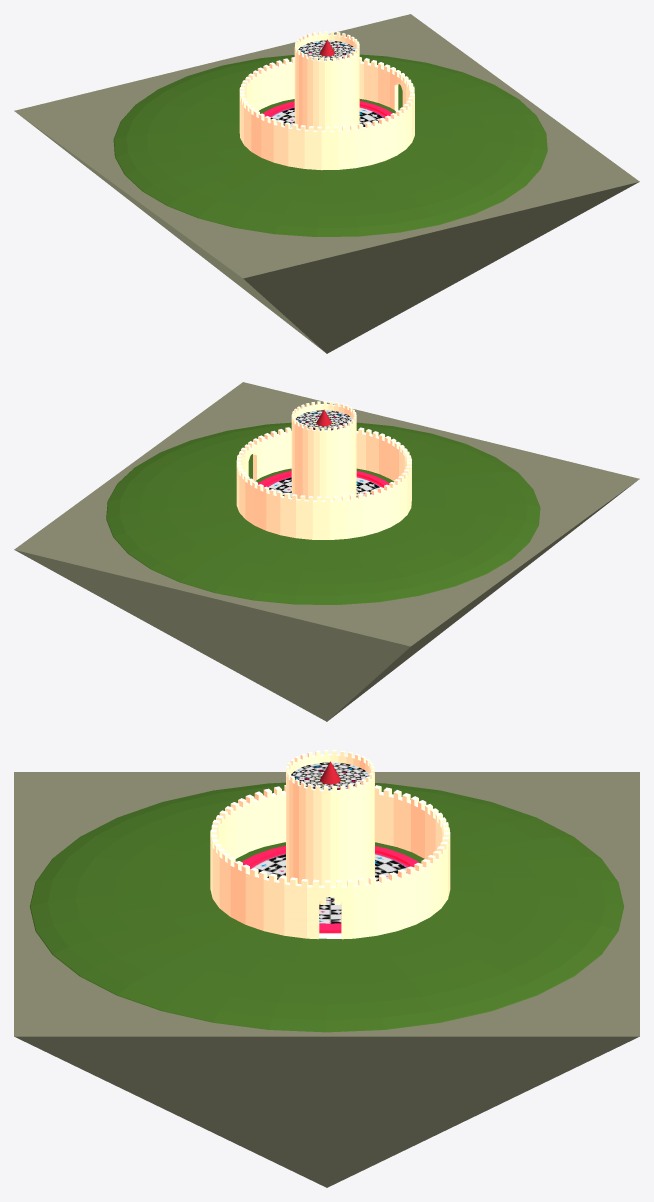
The model's file is castle1.glb.
The picture shows the model from 3 angles, top to bottom: view 1: azimuth 30°, elevation 25°; view 2: azimuth 150°, elevation 25°; view 3: azimuth 270°, elevation 25°; orthographic projection. The views are drawn at different scales.
Visible parts, largest first — view 1: Plane, Sphere, Cylinder, Cylinder.001, Cylinder.002; view 2: Plane, Sphere, Cylinder, Cylinder.001, Cylinder.002; view 3: Plane, Sphere, Cylinder, Cylinder.002, Cylinder.001.
Boxes of the visible parts, <box> form: Plane: <box>14,14,639,353</box>; Sphere: <box>113,54,547,236</box>; Cylinder: <box>239,31,414,170</box>; Cylinder.001: <box>298,40,355,60</box>; Cylinder.002: <box>270,107,384,127</box>; Plane: <box>14,382,639,721</box>; Sphere: <box>106,422,540,604</box>; Cylinder: <box>236,401,411,539</box>; Cylinder.001: <box>296,410,352,430</box>; Cylinder.002: <box>268,477,379,497</box>; Plane: <box>14,772,639,1187</box>; Sphere: <box>29,782,624,1032</box>; Cylinder: <box>210,750,450,939</box>; Cylinder.002: <box>251,853,407,923</box>; Cylinder.001: <box>291,762,369,790</box>.
Size of the model in its own units: 5.22 by 3.93 by 5.22.
7 materials, 7 textured.
